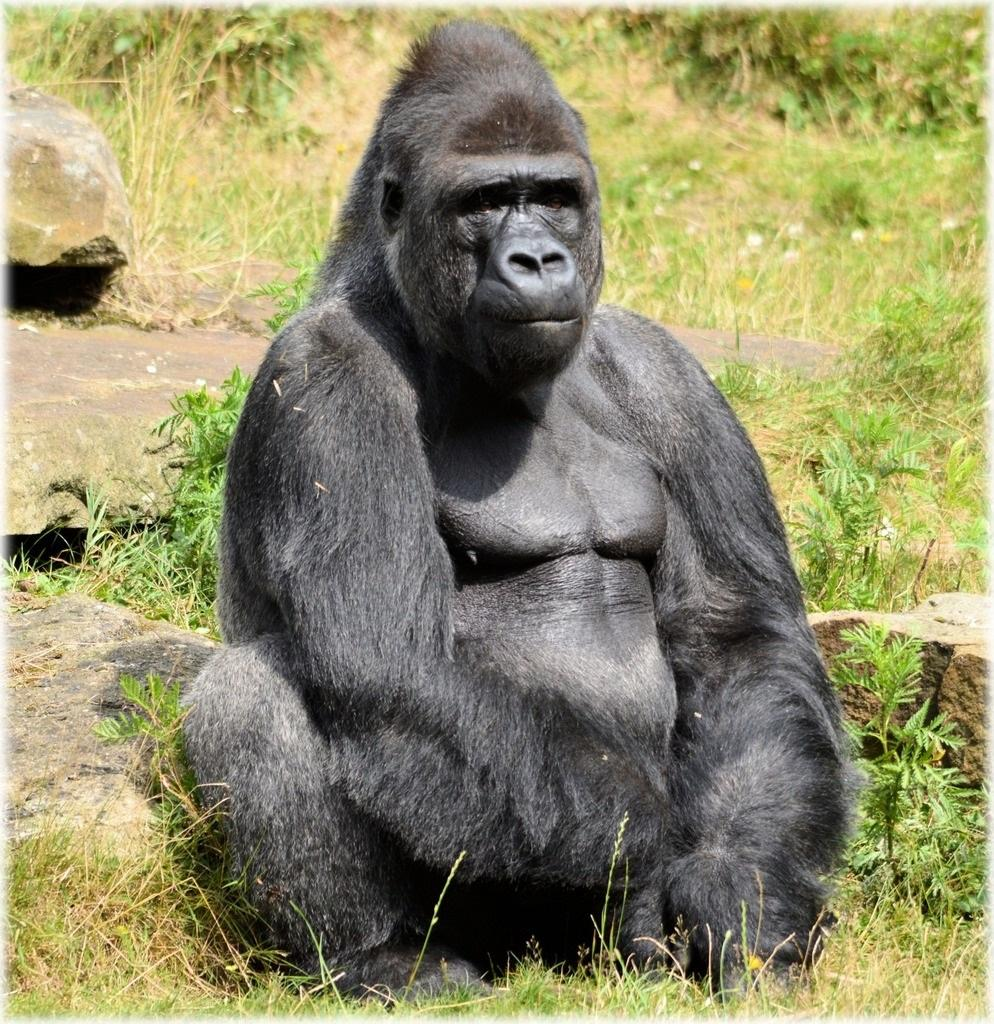goriile_montagne: (198, 3, 887, 995)
